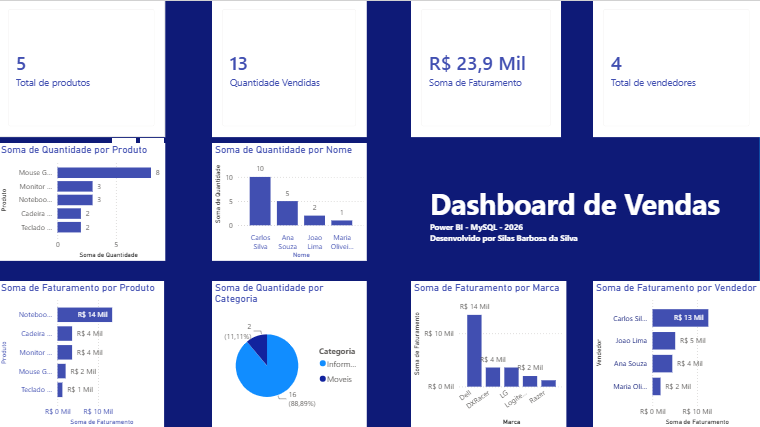

What the dashboard file says about the page in this screenshot:
{"tool":"powerbi","page":{"name":"Vendedores","canvas":[1280,720],"ordinal":3},"visuals":[{"type":"shape","box":[0,0,1280,720.6],"z":0},{"type":"cardVisual","fields":{"Data":["CountNonNull(produtos.id_produto)"]},"box":[0,0,280.5,231.8],"z":1000},{"type":"cardVisual","fields":{"Data":["CountNonNull(itens_vendas.id_venda)"]},"box":[360,0,259.9,231.5],"z":2000},{"type":"cardVisual","fields":{"Data":["Sum(itens_vendas.Faturamento)"]},"box":[693.1,0,252.4,231.5],"z":3000},{"type":"cardVisual","fields":{"Data":["CountNonNull(vendedores.id_vendedor)"]},"box":[999.5,0,280.5,231.8],"z":4000},{"type":"barChart","fields":{"Category":["produtos.Produto"],"Y":["Sum(itens_vendas.Faturamento)"]},"box":[0,473.5,279.3,246.5],"z":5000},{"type":"pieChart","fields":{"Category":["produtos.Categoria"],"Y":["Sum(itens_vendas.Quantidade)"]},"box":[360,473.5,259.9,246.5],"z":6000},{"type":"columnChart","fields":{"Category":["produtos.Marca"],"Y":["Sum(itens_vendas.Faturamento)"]},"box":[693.1,473.5,261.4,246.5],"z":7000},{"type":"barChart","fields":{"Y":["Sum(itens_vendas.Faturamento)"],"Category":["vendedores.Nome"]},"box":[999.3,473.5,280.8,246.5],"z":8000},{"type":"clusteredBarChart","fields":{"Category":["produtos.Produto"],"Y":["Sum(itens_vendas.Quantidade)"]},"box":[0,241.9,281,198],"z":9000},{"type":"columnChart","fields":{"Category":["vendedores.Nome"],"Y":["Sum(itens_vendas.Quantidade)"]},"box":[359.5,241.9,260.4,198.2],"z":10000},{"type":"textbox","box":[720.6,305.7,502.3,147.8],"z":10001}]}

Visuals, with their boxes in screenshot pixels (x1, y1, x2, y2), scaled from the page's 1280x720 canvas onto the 760x427 screenshot:
shape: (0,0,759,426)
cardVisual - CountNonNull(produtos.id_produto): (0,0,167,137)
cardVisual - CountNonNull(itens_vendas.id_venda): (214,0,368,137)
cardVisual - Sum(itens_vendas.Faturamento): (412,0,561,137)
cardVisual - CountNonNull(vendedores.id_vendedor): (593,0,759,137)
barChart - produtos.Produto x Sum(itens_vendas.Faturamento): (0,281,166,426)
pieChart - produtos.Categoria x Sum(itens_vendas.Quantidade): (214,281,368,426)
columnChart - produtos.Marca x Sum(itens_vendas.Faturamento): (412,281,567,426)
barChart - Sum(itens_vendas.Faturamento) x vendedores.Nome: (593,281,759,426)
clusteredBarChart - produtos.Produto x Sum(itens_vendas.Quantidade): (0,143,167,261)
columnChart - vendedores.Nome x Sum(itens_vendas.Quantidade): (213,143,368,261)
textbox: (428,181,726,269)
